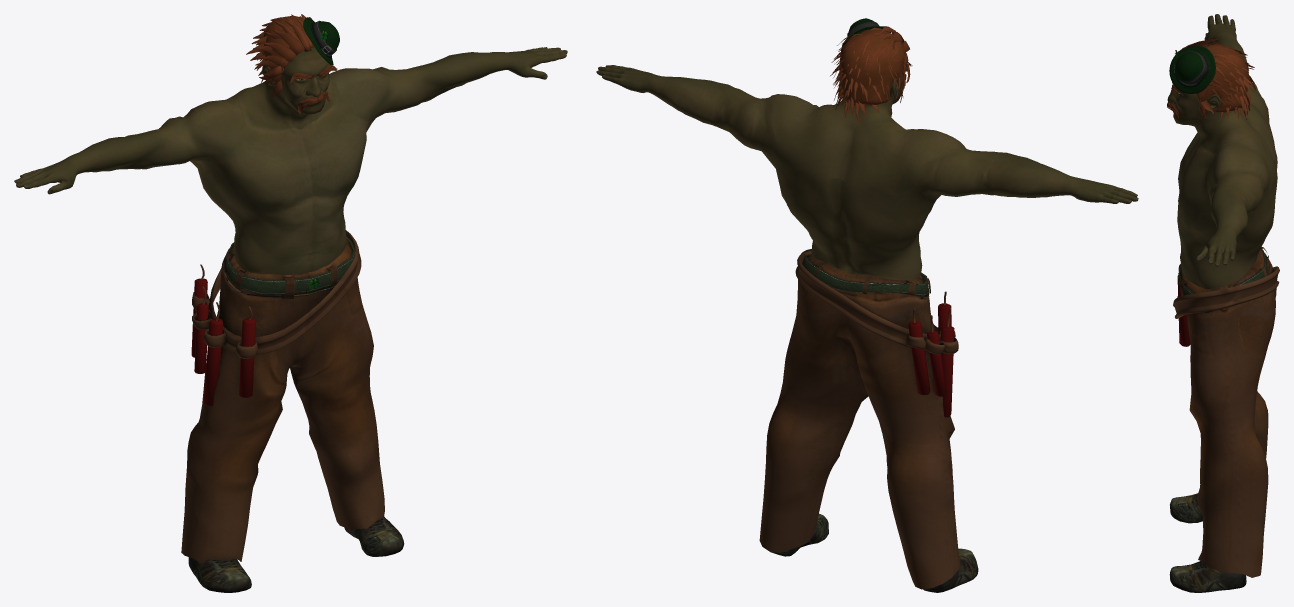
The model's file is TNT_final.fbx.
3 renders of one model, left to right at view 1: azimuth 30°, elevation 25°; view 2: azimuth 150°, elevation 25°; view 3: azimuth 270°, elevation 25°, orthographic. The views are drawn at different scales.
Parts seen in each view (by area): view 1: piel, pantalon, correa, cabello, zapatos, sombrero; view 2: piel, pantalon, correa, cabello, zapatos; view 3: pantalon, piel, cabello, zapatos, correa, sombrero.
Part boxes in pixels (x1,y1,x2,y2): piel: (14,46,567,274); pantalon: (181,236,384,563); correa: (191,230,361,406); cabello: (246,14,338,292); zapatos: (188,516,404,592); sombrero: (303,17,339,64); piel: (596,65,1138,280); pantalon: (759,254,960,589); correa: (795,249,958,417); cabello: (830,26,912,123); zapatos: (771,513,978,592); pantalon: (1178,247,1276,577); piel: (1167,14,1277,289); cabello: (1167,38,1256,285); zapatos: (1169,493,1246,592); correa: (1173,266,1279,346); sombrero: (1169,45,1215,93).
Size of the model in its own units: 669 by 632 by 127.
